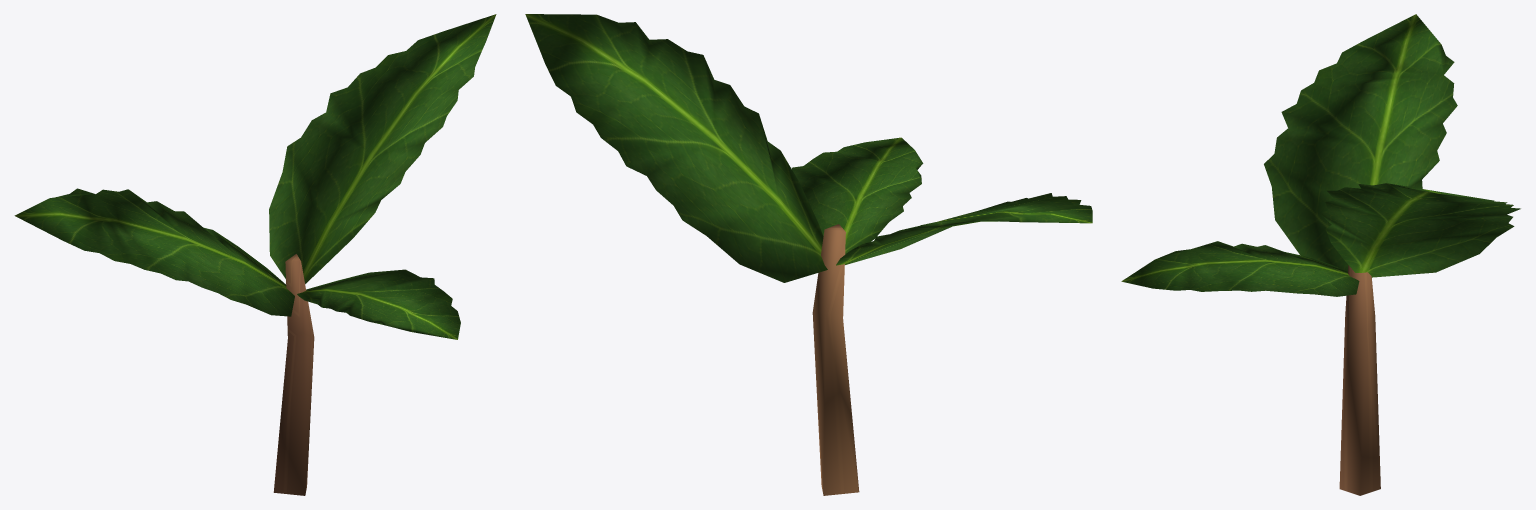
Rendered from NP_Blackberry_Sprout_LOD1.fbx.
The picture shows the model from 3 angles, left to right: view 1: azimuth 30°, elevation 25°; view 2: azimuth 150°, elevation 25°; view 3: azimuth 270°, elevation 25°; orthographic projection. The views are drawn at different scales.
Visible parts, largest first — view 1: NP_Blackberry_Sprout; view 2: NP_Blackberry_Sprout; view 3: NP_Blackberry_Sprout.
Part boxes in pixels (x1=…): NP_Blackberry_Sprout: x1=14, y1=14, x2=496, y2=495; NP_Blackberry_Sprout: x1=525, y1=14, x2=1092, y2=495; NP_Blackberry_Sprout: x1=1121, y1=14, x2=1520, y2=495.
Bounding box in the file's own units: 29.57 × 22.4 × 19.32.
